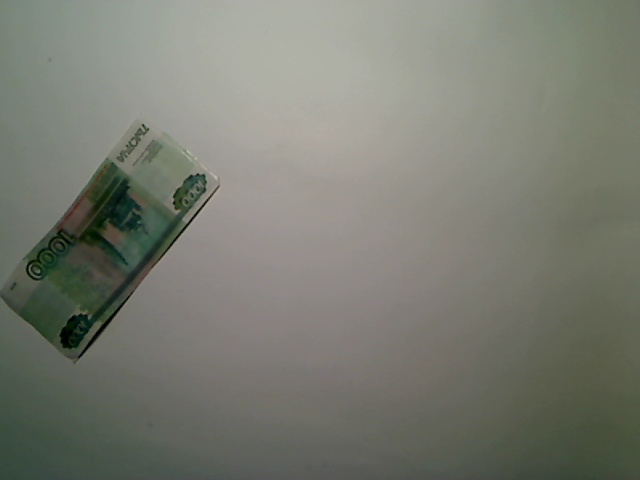banknotes: (1, 110, 225, 366)
